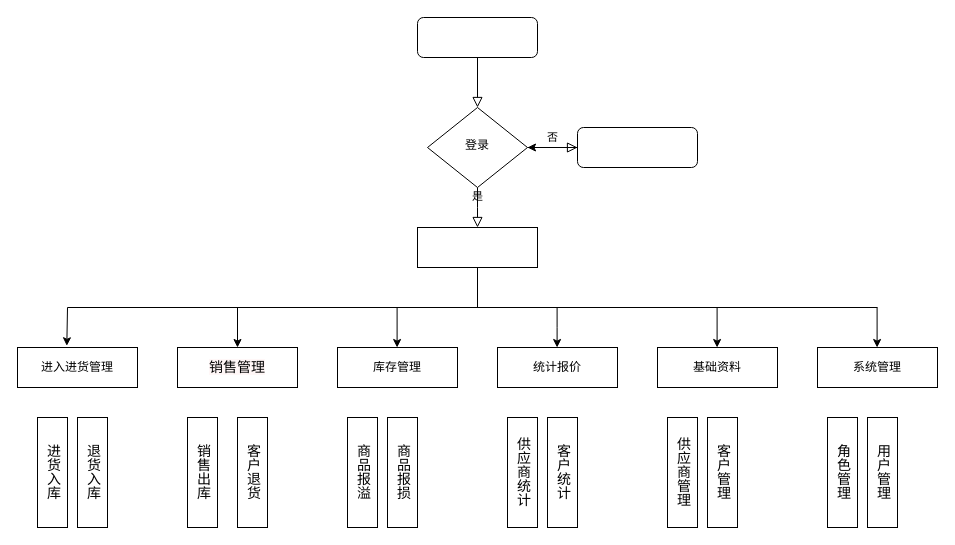
Image size: 955x545. Some labels were removed from this diagram. The centre of each missing label's shape, as x and y in pixels:
开始: point 477,37
结束: point 637,147
进入系统: point 477,247
